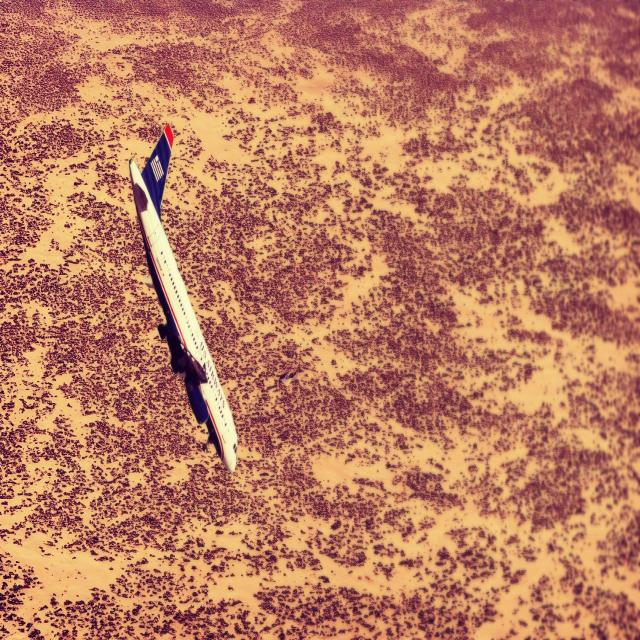airplane: (128, 122, 238, 474)
